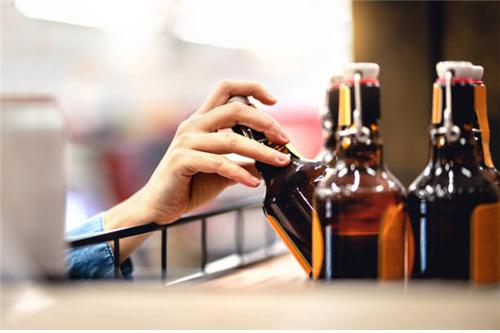alcohol: (312, 75, 410, 283), (408, 77, 498, 286), (217, 96, 312, 280)
